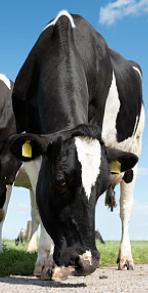cow: (7, 10, 144, 280)
